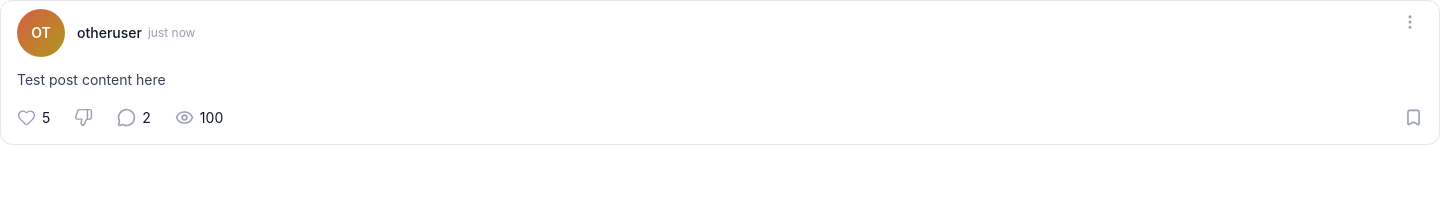
Test: PostCard › shows Unblock when post author is already blocked
This screenshot has width=1440, height=205.
Click the button named "Post options" at point(1410, 22), box 1397,9 -> 1423,35
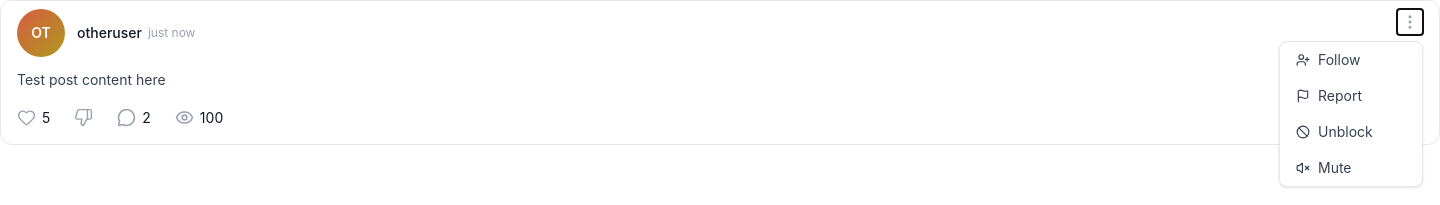
Expected: the button "Unblock" is shown, 1280,114 -> 1422,150
Expected: the button "Mute" is shown, 1280,150 -> 1422,186
